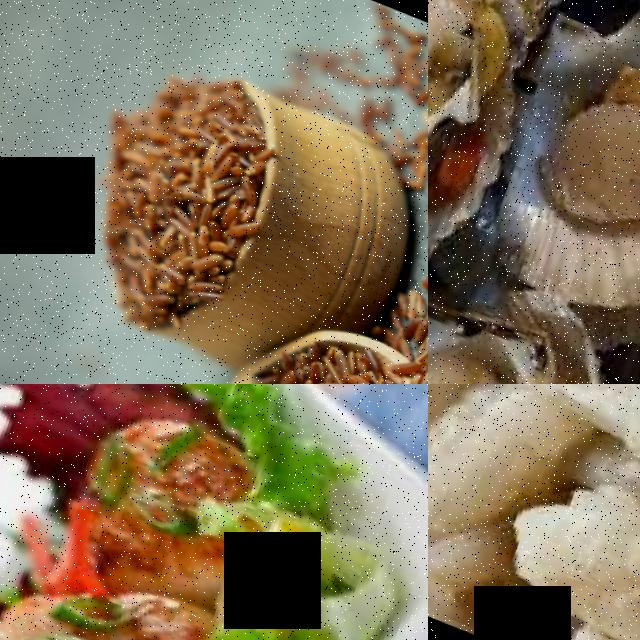red rice: (61, 37, 283, 350), (267, 318, 405, 384)
sea scallops: (538, 75, 640, 230), (428, 330, 525, 384), (428, 0, 479, 79)
shrimp: (467, 384, 640, 640)
